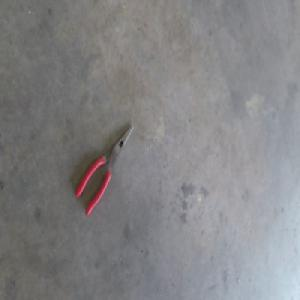Pliers: (77, 124, 135, 216)
